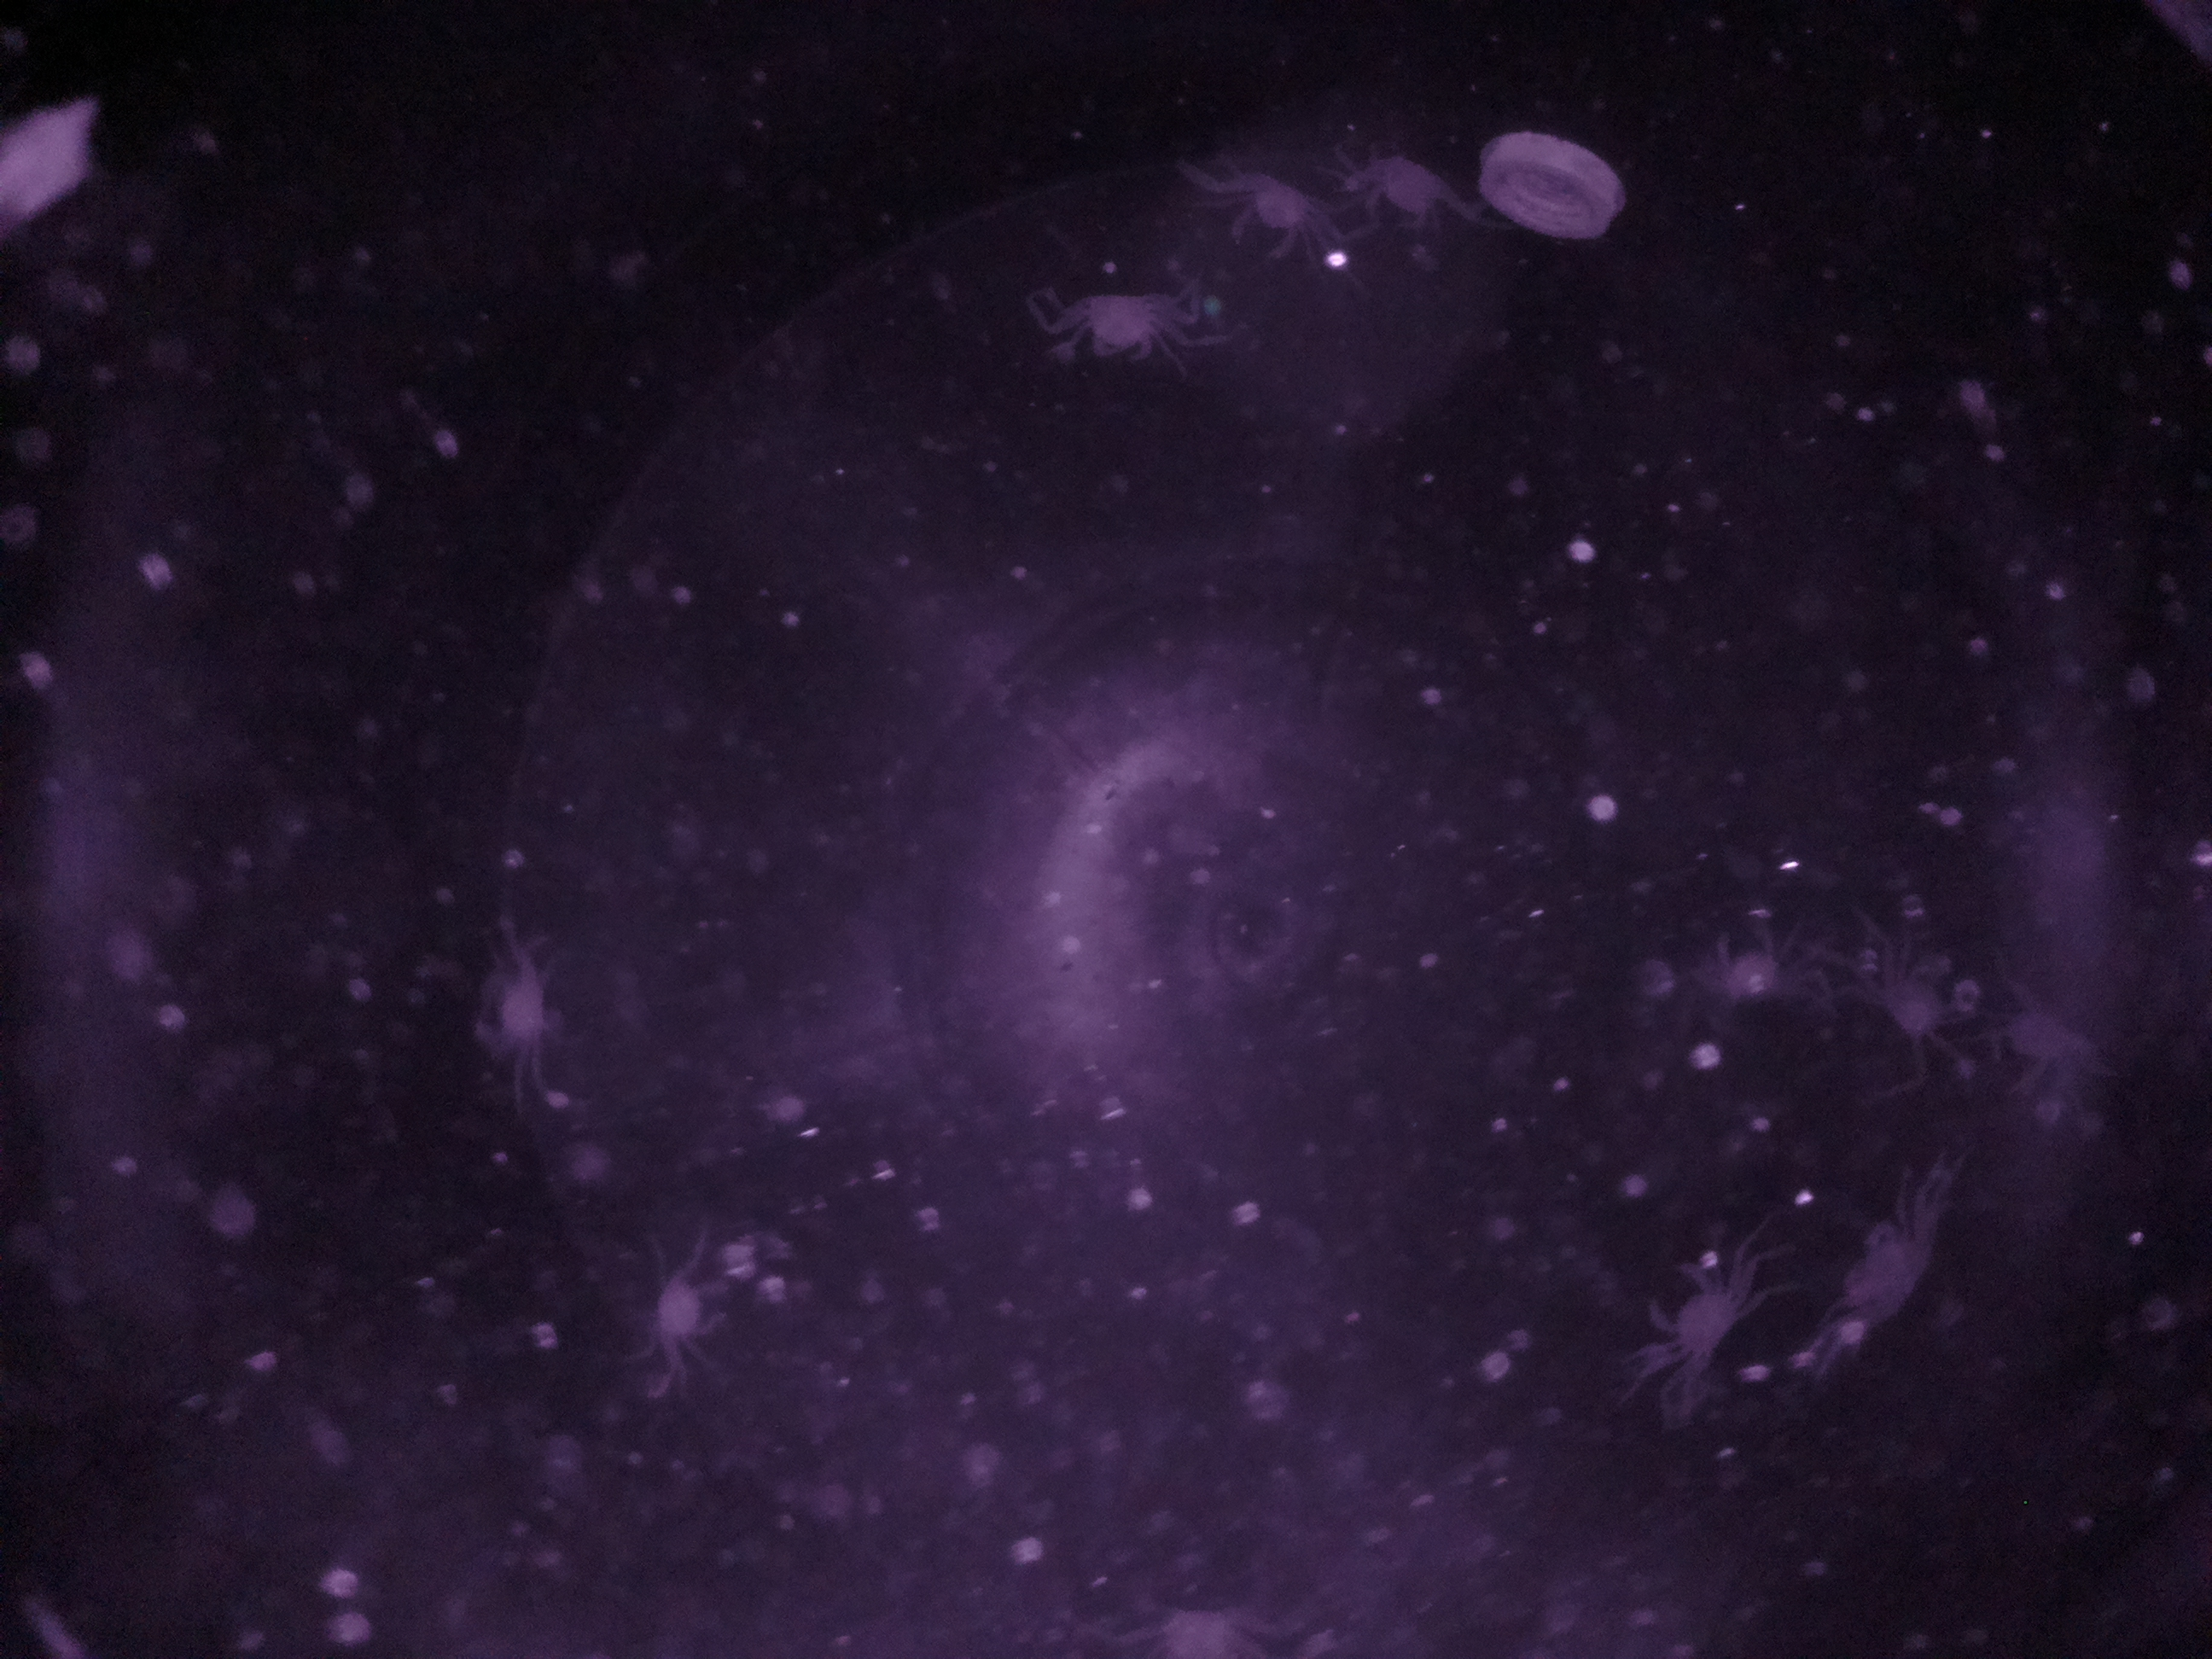Crab: (1629, 1244, 1763, 1370), (448, 945, 580, 1065), (1059, 272, 1197, 376), (1219, 148, 1324, 279)
